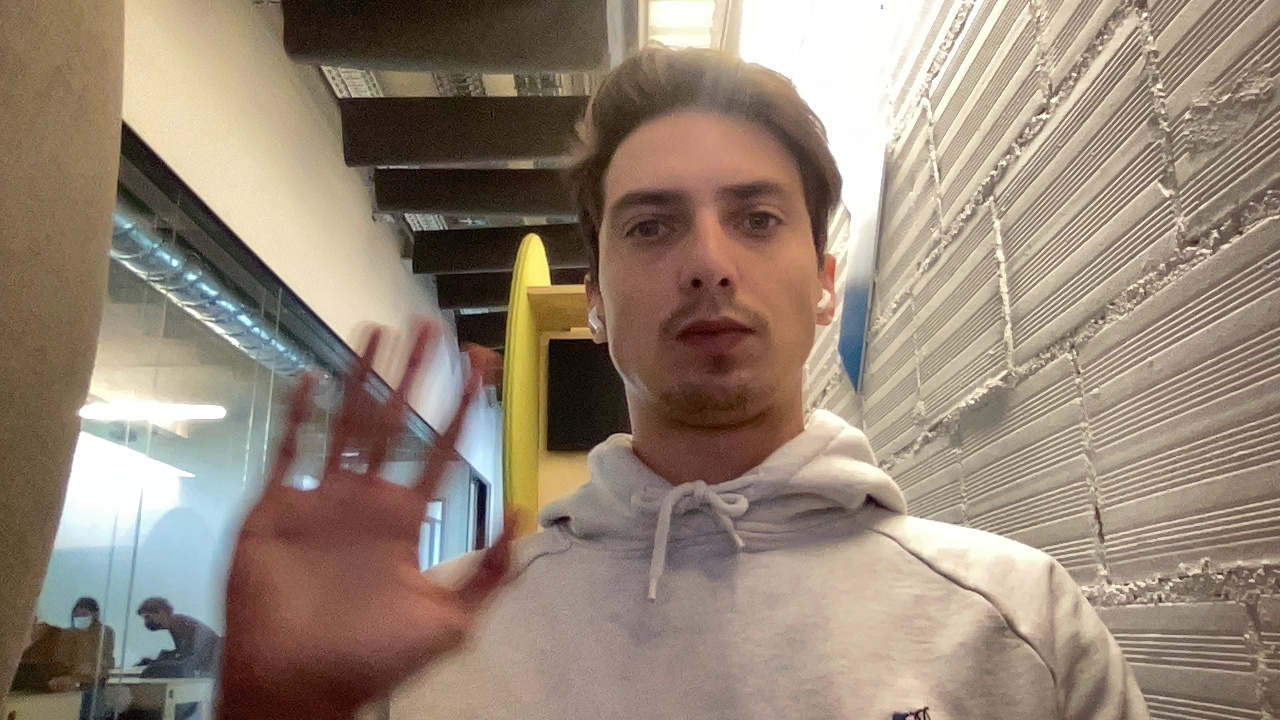Hello: (183, 290, 578, 709)
